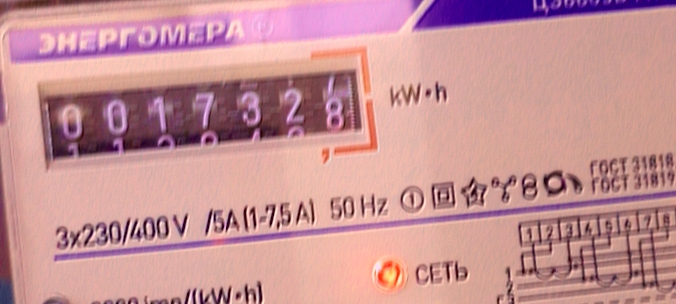0: (56, 100, 87, 143), (104, 97, 131, 137)
1: (149, 93, 171, 135)
2: (280, 86, 306, 125)
3: (239, 89, 264, 127)
7: (193, 90, 219, 131)
8: (323, 94, 345, 132)
screen: (26, 42, 390, 197)
